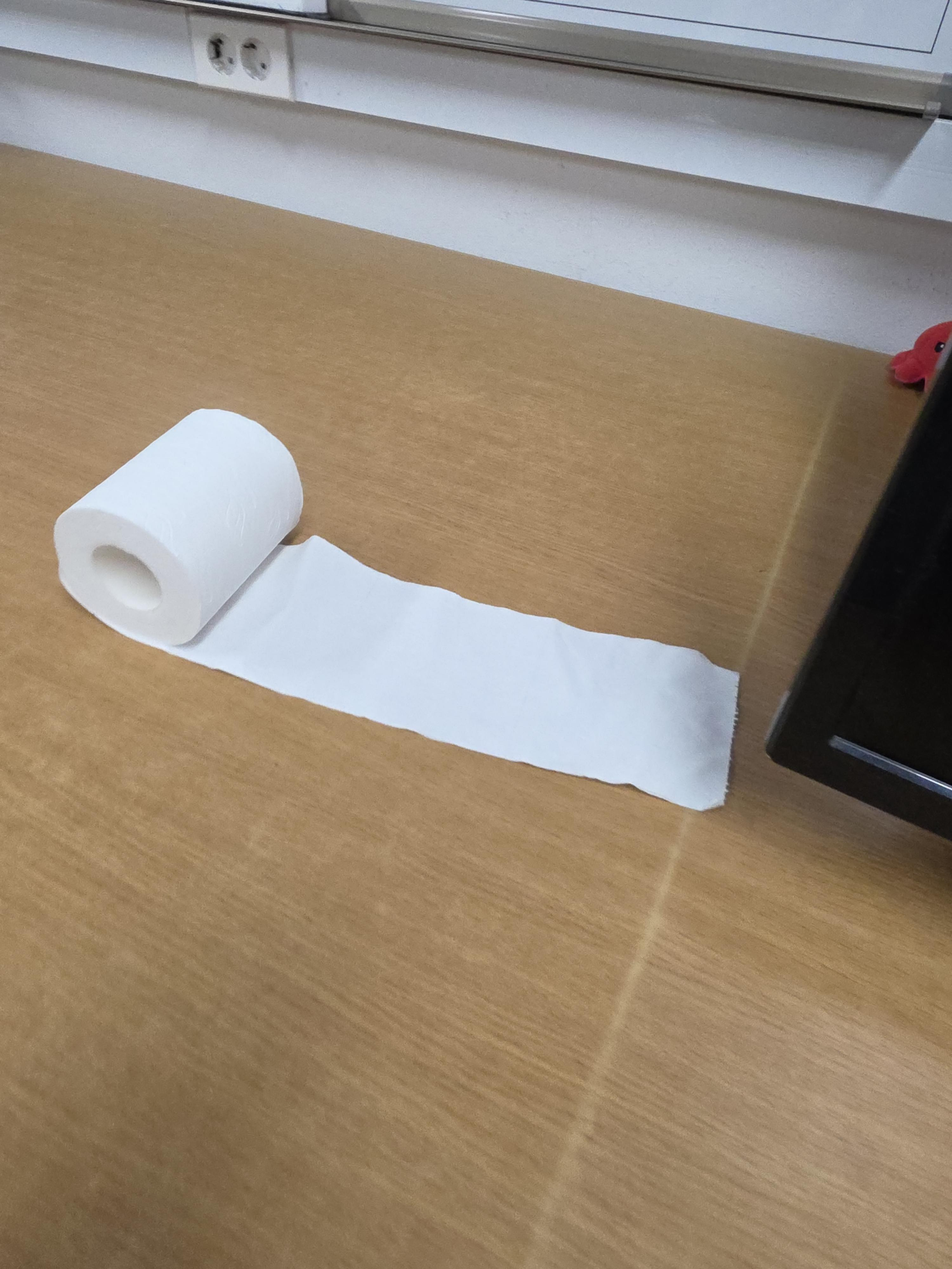tissue: (53, 408, 740, 812)
